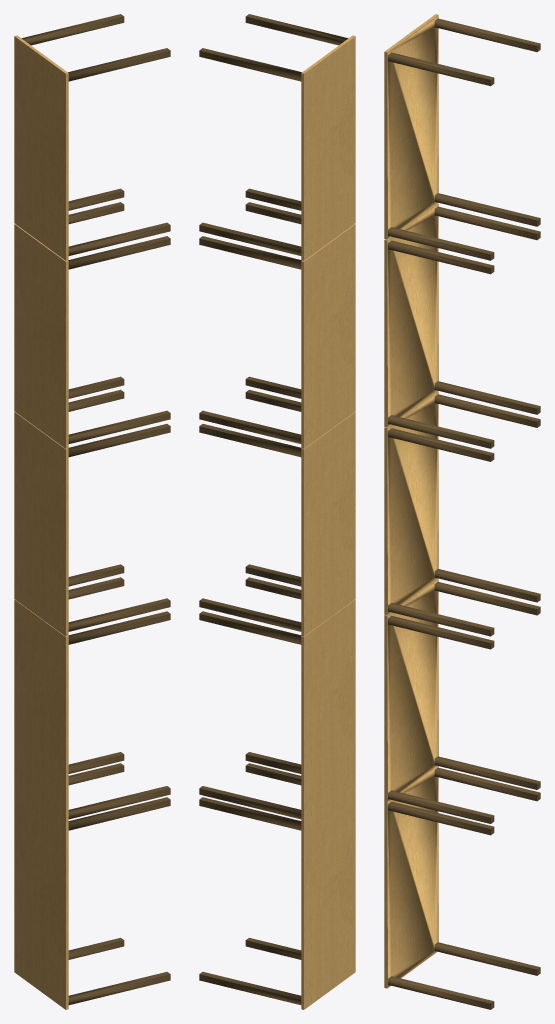
Rendered from table5_mesh_yy.obj.
3 renders of one model, left to right at view 1: azimuth 30°, elevation 25°; view 2: azimuth 150°, elevation 25°; view 3: azimuth 330°, elevation 25°, orthographic.
Visible parts, largest first — view 1: mat1.001_mat1.008, mat1.004, mat1, mat1.005_mat1.011, mat1.006; view 2: mat1.001_mat1.008, mat1.004, mat1, mat1.005_mat1.011, mat1.006; view 3: mat1.001_mat1.008, mat1.004, mat1, mat1.006, mat1.005_mat1.011.
Part boxes in pixels (box(x1,y1,x2,y2)): mat1.001_mat1.008: box(14, 14, 170, 260); mat1.004: box(14, 202, 170, 448); mat1: box(14, 389, 170, 636); mat1.005_mat1.011: box(14, 763, 170, 1009); mat1.006: box(14, 577, 170, 823); mat1.001_mat1.008: box(199, 14, 355, 260); mat1.004: box(199, 202, 355, 448); mat1: box(199, 389, 355, 636); mat1.005_mat1.011: box(199, 763, 355, 1009); mat1.006: box(199, 577, 355, 823); mat1.001_mat1.008: box(384, 14, 540, 260); mat1.004: box(384, 202, 540, 448); mat1: box(384, 390, 540, 636); mat1.006: box(384, 578, 540, 823); mat1.005_mat1.011: box(384, 765, 540, 1009).
Bounding box in the file's own units: 0.71 × 6.01 × 0.6.
